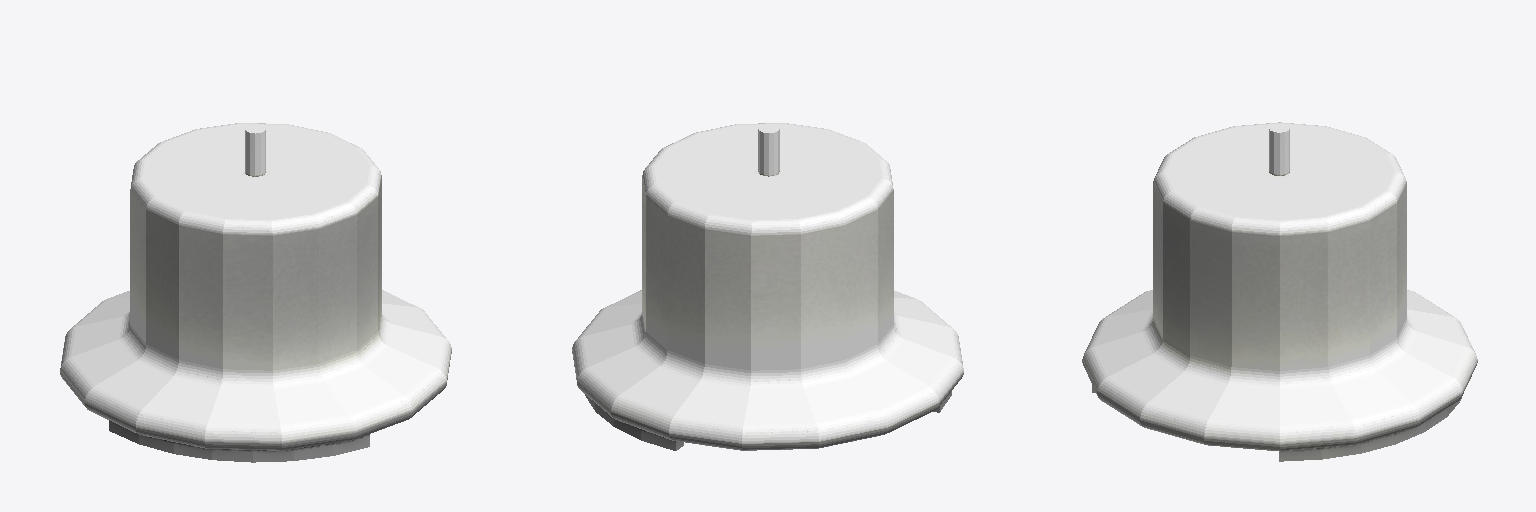
3 views of the same model, side by side, from view 1: azimuth 30°, elevation 25°; view 2: azimuth 150°, elevation 25°; view 3: azimuth 270°, elevation 25° (orthographic).
Parts seen in each view (by area): view 1: Line03; view 2: Line03; view 3: Line03.
Boxes of the visible parts, x1,y1,x2,y2 form: Line03: [60, 123, 451, 462]; Line03: [572, 123, 963, 450]; Line03: [1082, 122, 1477, 461].
Size of the model in its own units: 31.98 by 22.72 by 31.98.
1 materials, 1 textured.